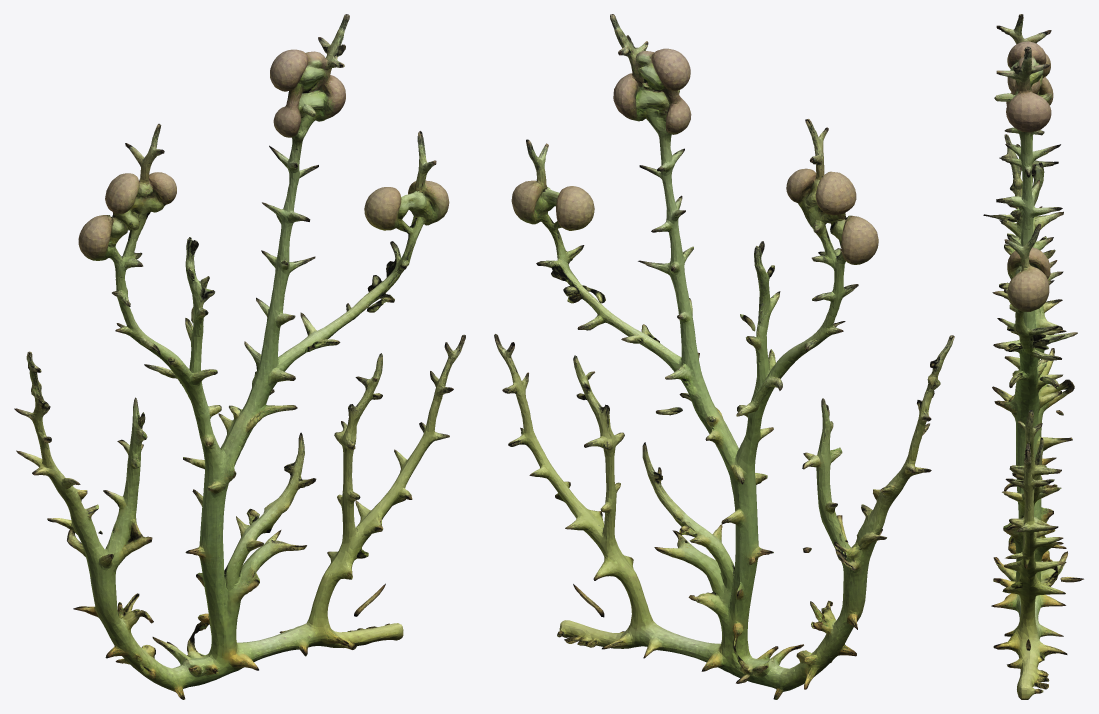
The picture shows the model from 3 angles, left to right: view 1: azimuth 30°, elevation 25°; view 2: azimuth 150°, elevation 25°; view 3: azimuth 270°, elevation 25°; orthographic projection.
Visible parts, largest first — view 1: world; view 2: world; view 3: world.
Part boxes in pixels (left/top/right/bottom): world: left=14, top=14, right=465, bottom=699; world: left=494, top=14, right=954, bottom=699; world: left=983, top=14, right=1083, bottom=699.
Size of the model in its own units: 0.7386 by 1 by 0.1462.
1 material, 1 textured.
